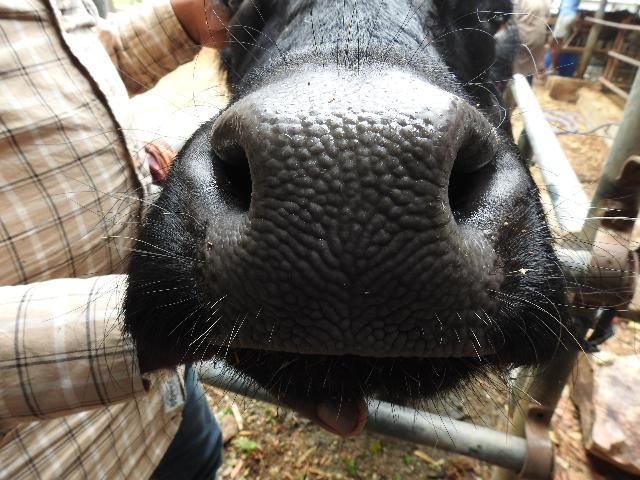Muzzle: (258, 98, 444, 348)
